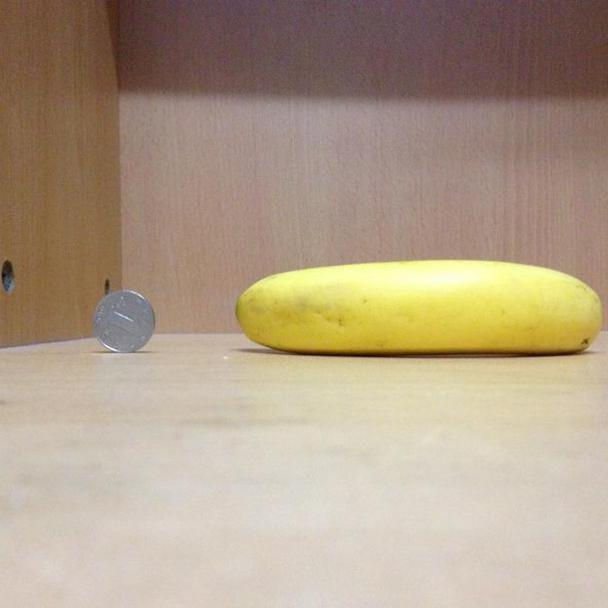banana: (231, 256, 600, 357)
